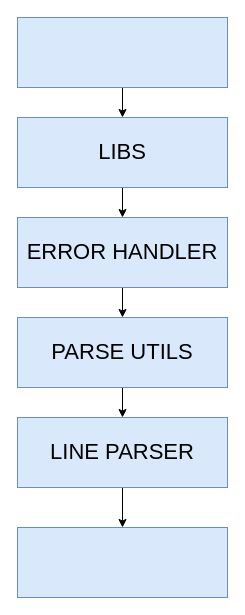
This 245x615 diagram has some shape labels left out. The shapes that lost their labels are listed below. From the top down, each one's centre as x and y in pixels, then its label:
At (x=122, y=52): "GLOBAL VARS".
At (x=122, y=562): "FILE PARSER".
